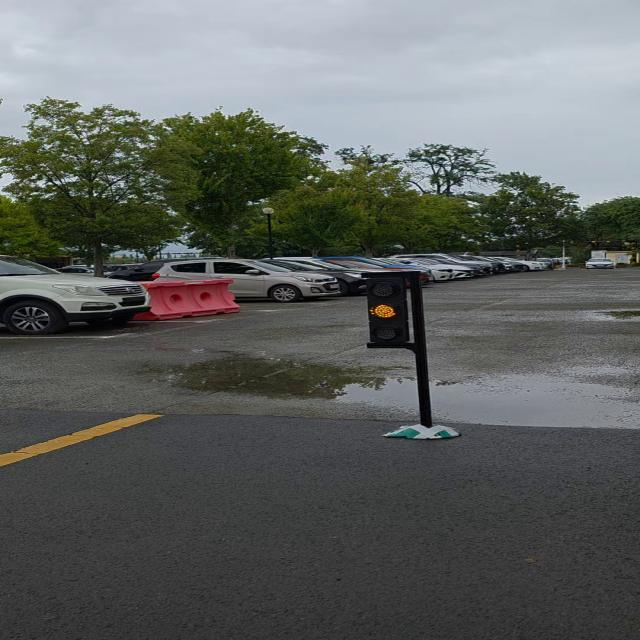yellow: (364, 275, 420, 350)
